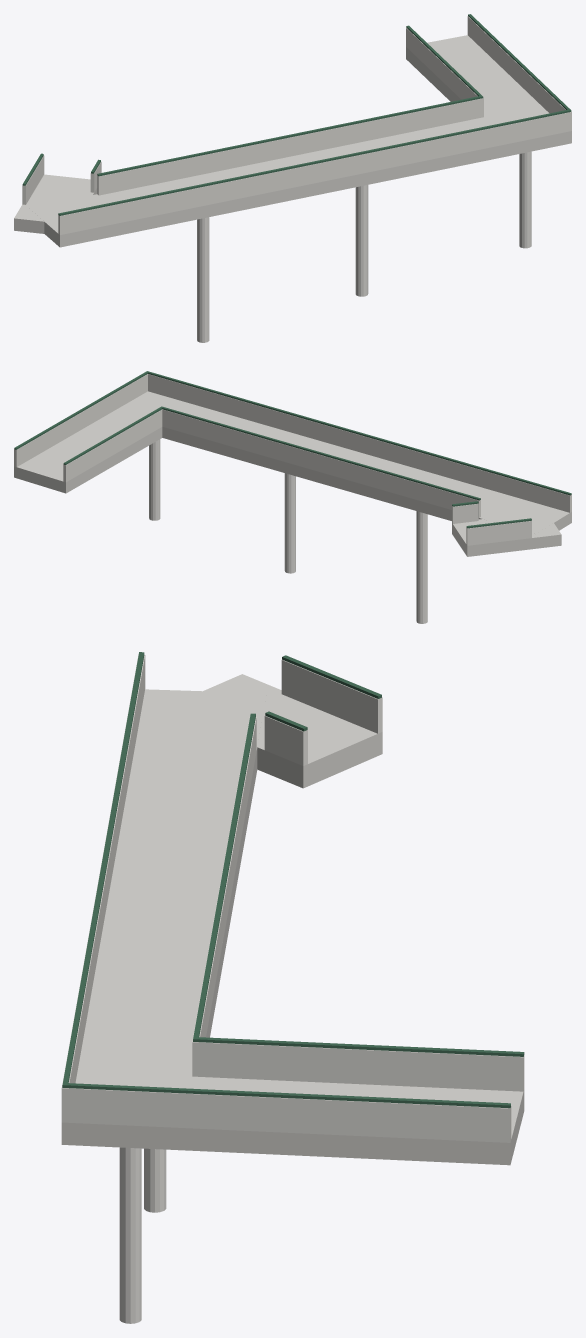
3 renders of one model, top to bottom at view 1: azimuth 30°, elevation 25°; view 2: azimuth 150°, elevation 25°; view 3: azimuth 270°, elevation 25°, orthographic. The views are drawn at different scales.
Visible parts, largest first — view 1: bridgeT__parapet, bridgeT__deck, bridgeT__column, bridgeT__rail; view 2: bridgeT__parapet, bridgeT__deck, bridgeT__rail, bridgeT__column; view 3: bridgeT__deck, bridgeT__parapet, bridgeT__rail, bridgeT__column.
Part boxes in pixels (x1,y1,x2,y2): bridgeT__parapet: (22,16,571,234); bridgeT__deck: (14,35,571,247); bridgeT__column: (197,151,531,342); bridgeT__rail: (22,14,571,215); bridgeT__parapet: (14,374,571,545); bridgeT__deck: (14,391,571,556); bridgeT__rail: (14,371,571,528); bridgeT__column: (149,439,427,623); bridgeT__deck: (61,674,524,1165); bridgeT__parapet: (61,655,524,1142); bridgeT__rail: (62,652,524,1108); bridgeT__column: (119,1147,166,1323).
Size of the model in its own units: 29.27 by 9.03 by 12.2.
